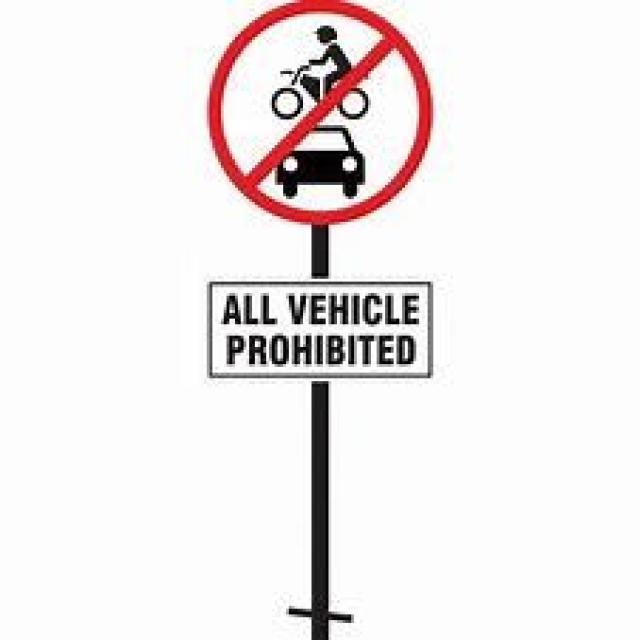all motor vehicle prohibited: (202, 8, 436, 223)
